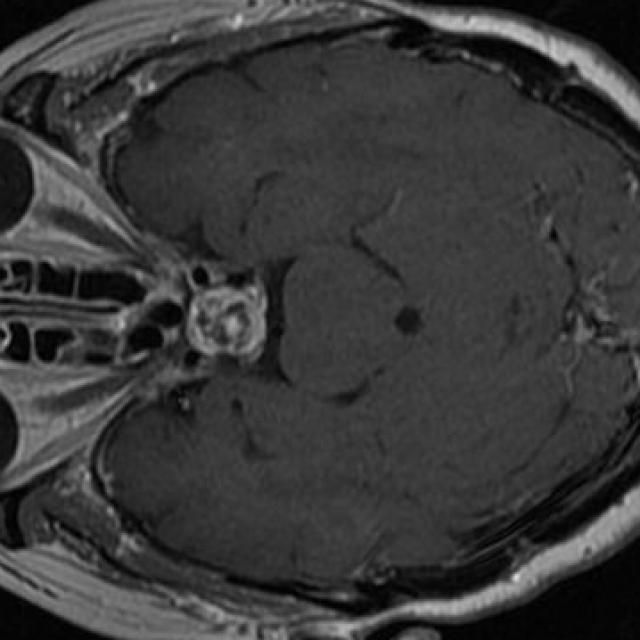pituitary: (191, 285, 266, 357)
